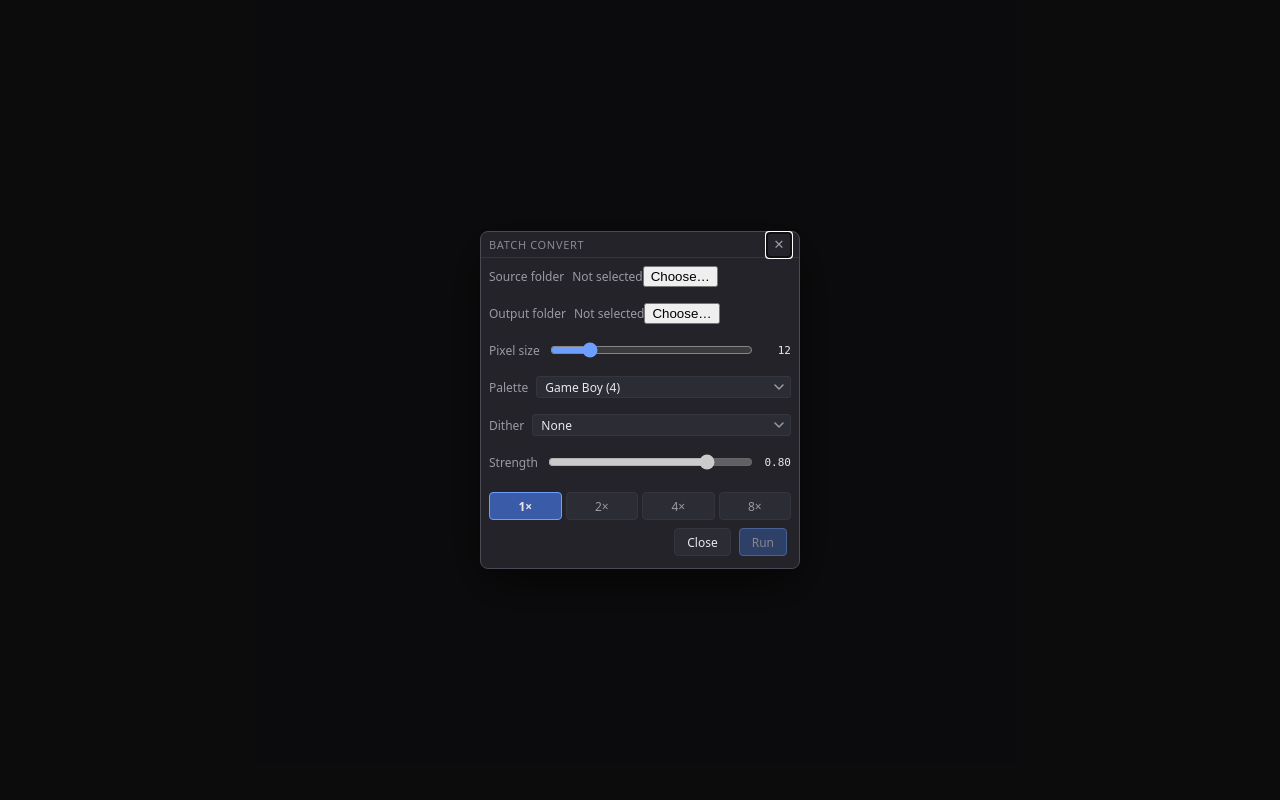
running a batch › reports an error rather than throwing when there is no backend
Step 1. Click the button "Choose…" in the row of "Source folder" → (680, 276), box [643,266,718,287]
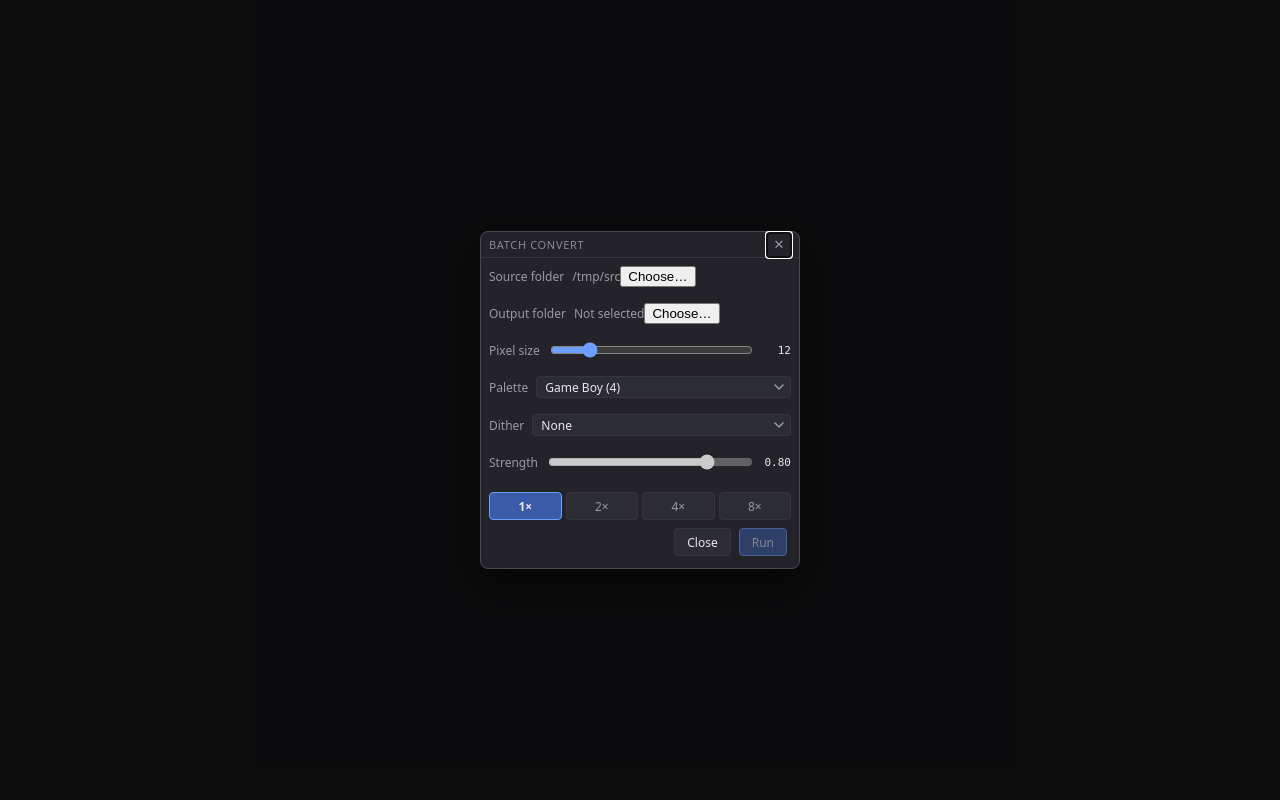
Step 2. Click the button "Choose…" next to "Not selected" → (682, 314), box [644,303,720,324]
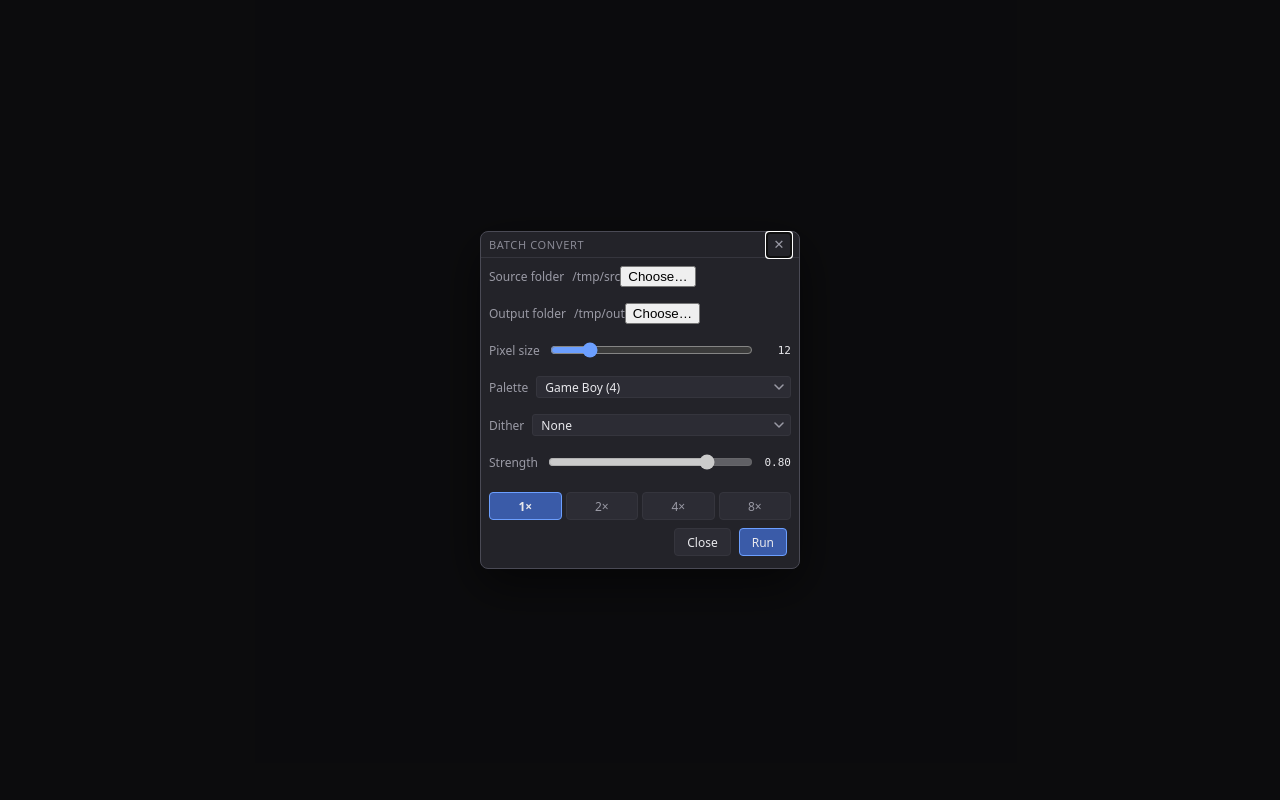
Step 3. Click the button "Run" → (763, 542), box [739,528,787,556]
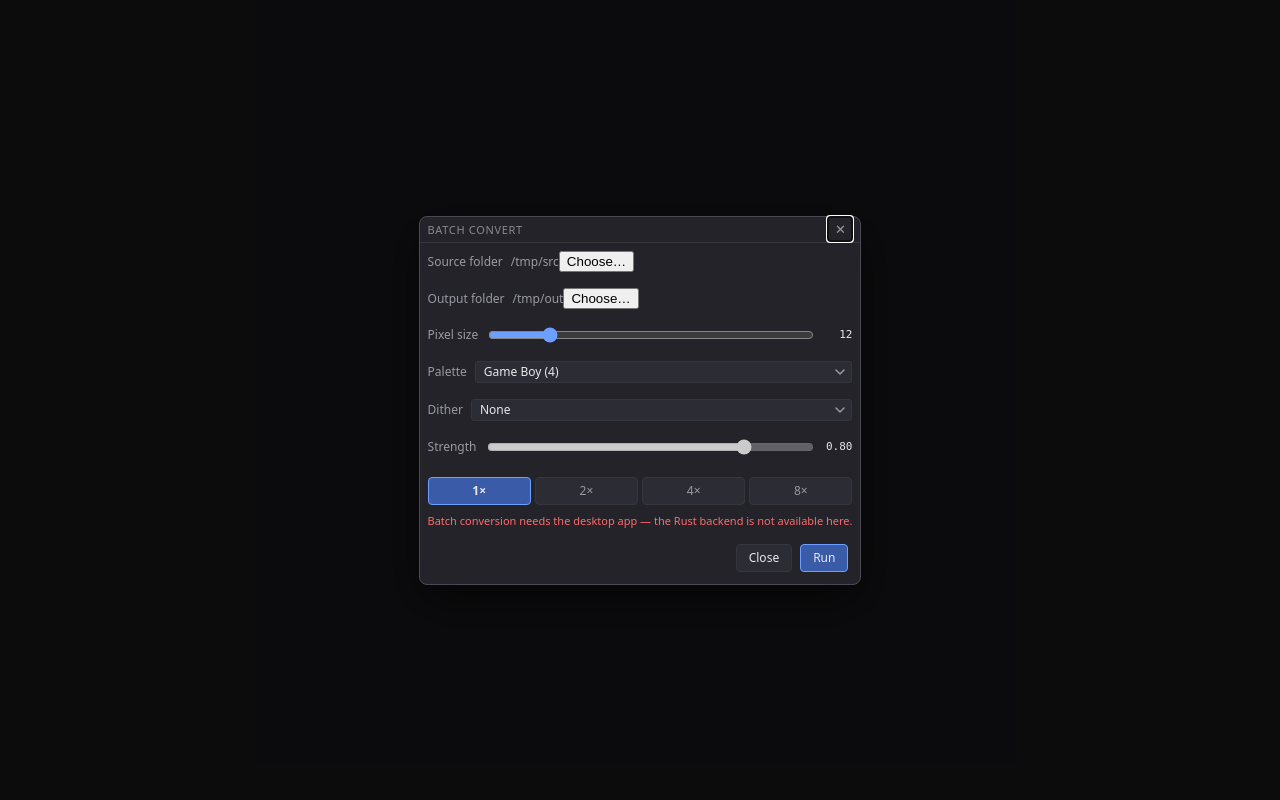
Expected: the text "needs the desktop app" is shown, [428,512,852,528]
